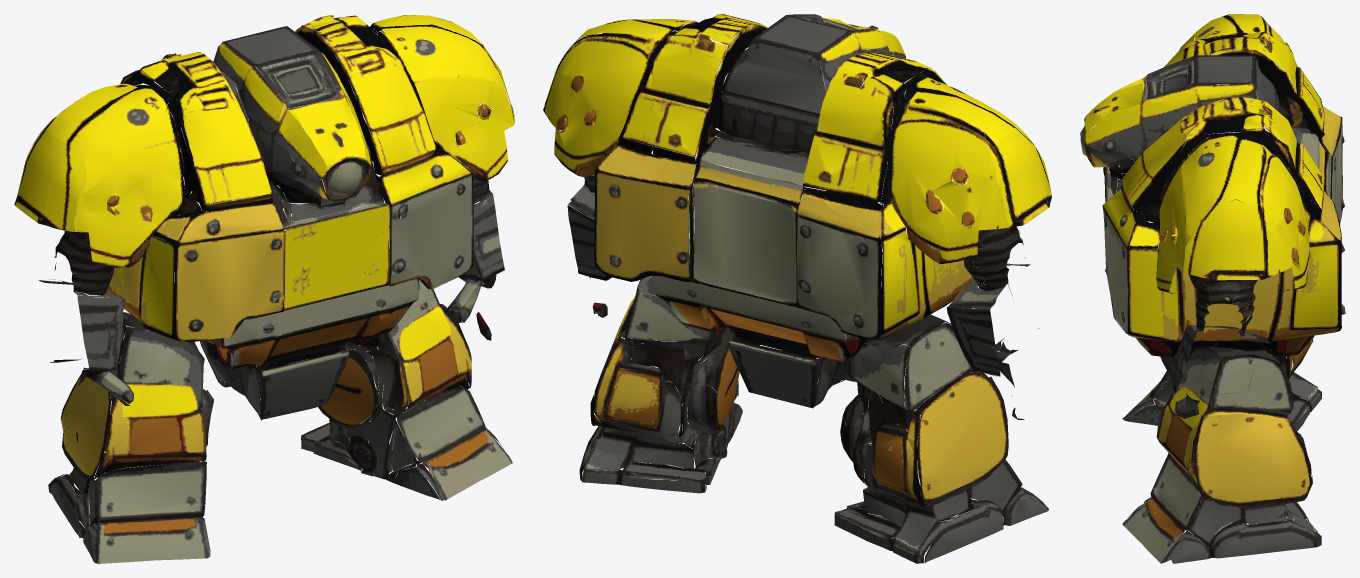
File: ch_brute.glb
3 views of the same model, side by side, from view 1: azimuth 30°, elevation 25°; view 2: azimuth 150°, elevation 25°; view 3: azimuth 270°, elevation 25° (orthographic). The views are drawn at different scales.
Visible parts, largest first — view 1: ch_brute, limb_leg_l, limb_leg_r; view 2: ch_brute, limb_leg_l, limb_leg_r; view 3: ch_brute, limb_leg_r, limb_leg_l.
Boxes of the visible parts, x1=… form: ch_brute: x1=14, y1=15, x2=514, y2=419; limb_leg_l: x1=48, y1=340, x2=271, y2=563; limb_leg_r: x1=292, y1=285, x2=512, y2=500; ch_brute: x1=543, y1=14, x2=1051, y2=408; limb_leg_l: x1=807, y1=340, x2=1048, y2=563; limb_leg_r: x1=579, y1=277, x2=759, y2=493; ch_brute: x1=1080, y1=14, x2=1345, y2=408; limb_leg_r: x1=1122, y1=347, x2=1321, y2=563; limb_leg_l: x1=1122, y1=339, x2=1321, y2=431.
Size of the model in its own units: 0.6847 by 0.61 by 0.3642.
Materials: 1 (1 with a texture image).
